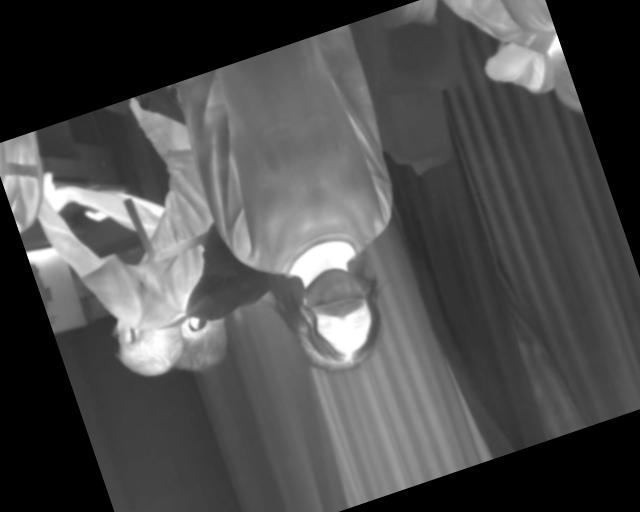face: (278, 258, 394, 383)
